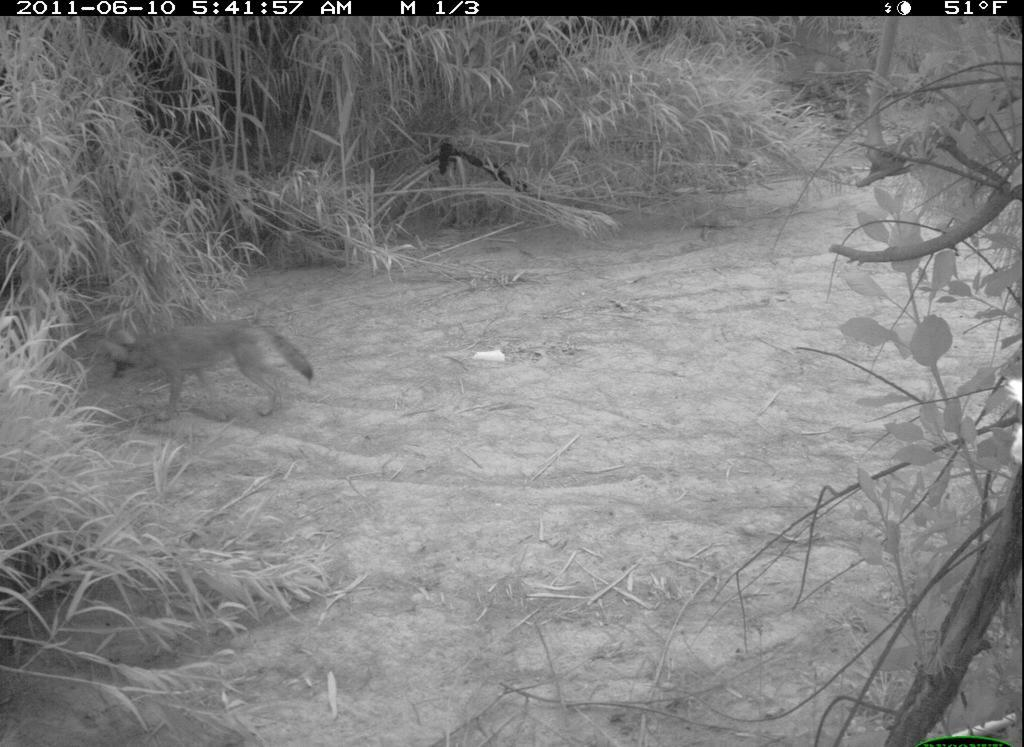coyote: (80, 294, 353, 431)
